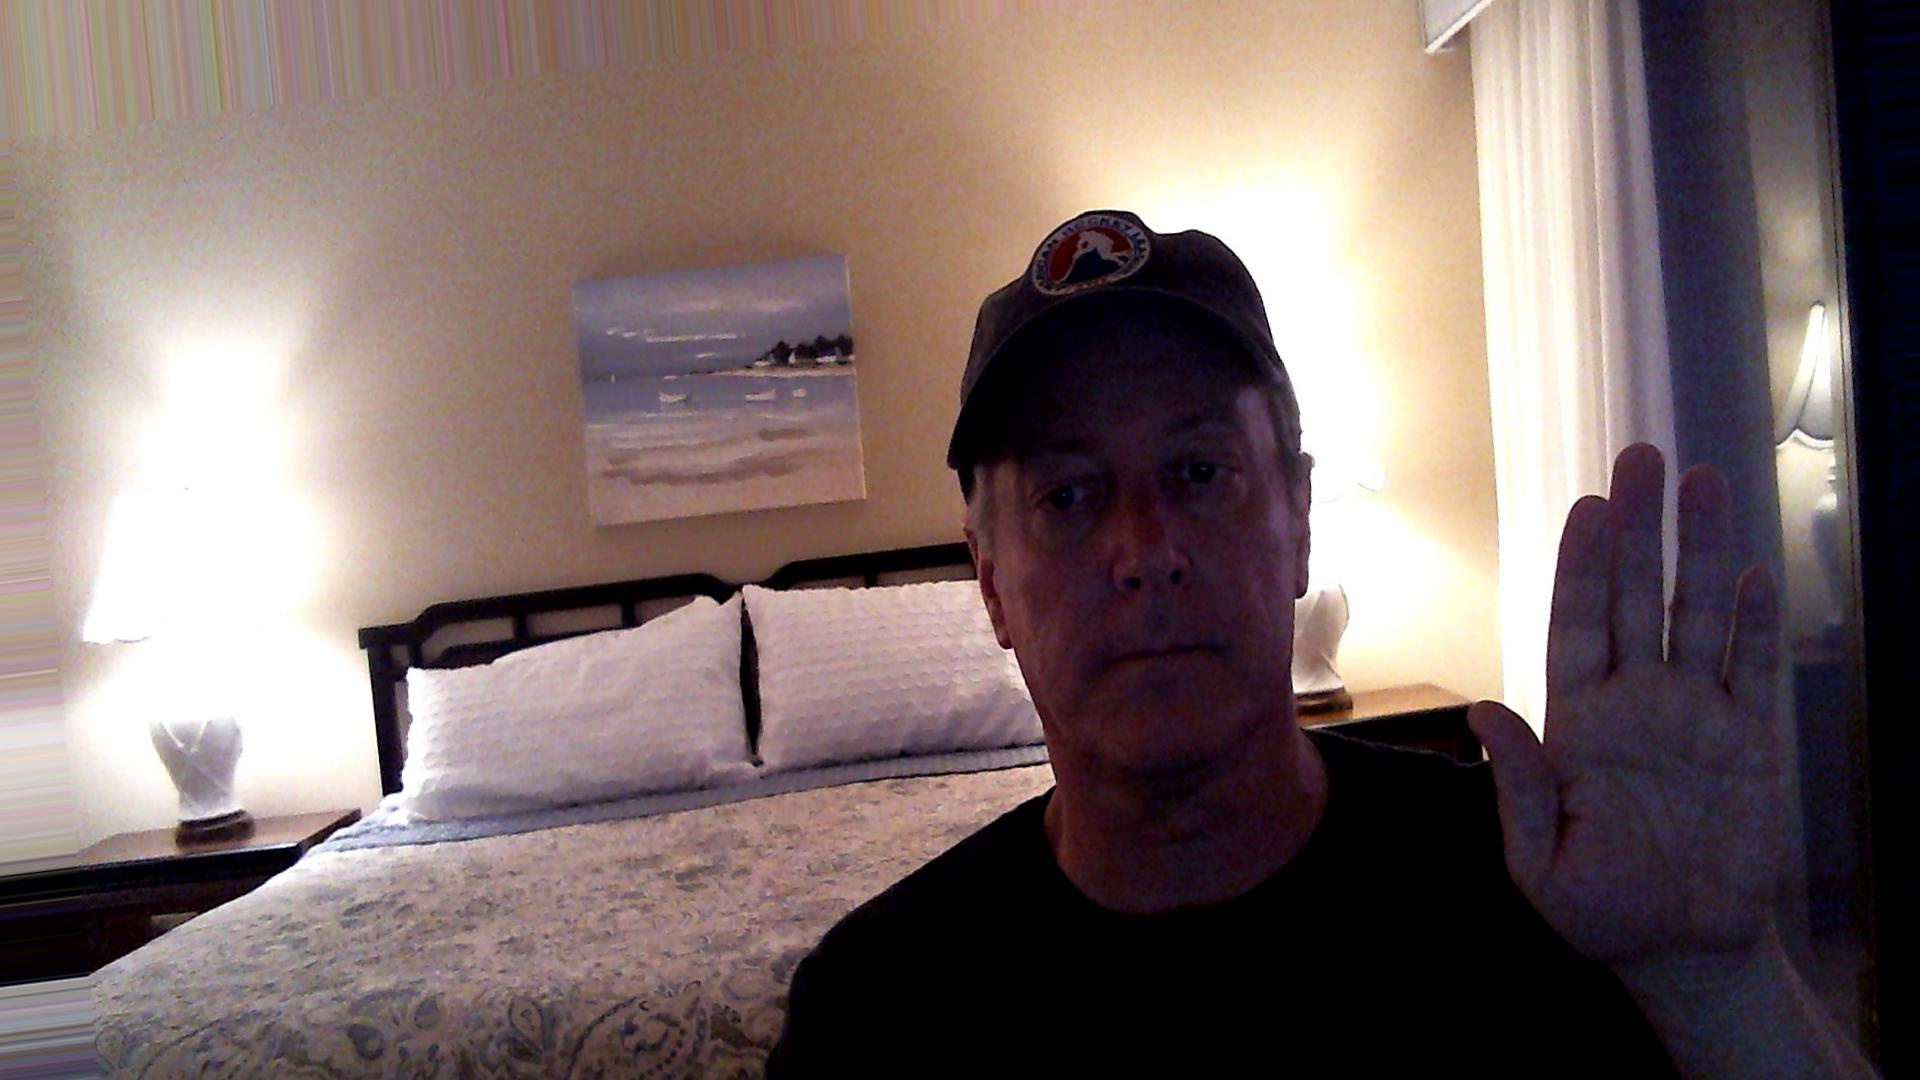Hello: (1449, 434, 1844, 982)
